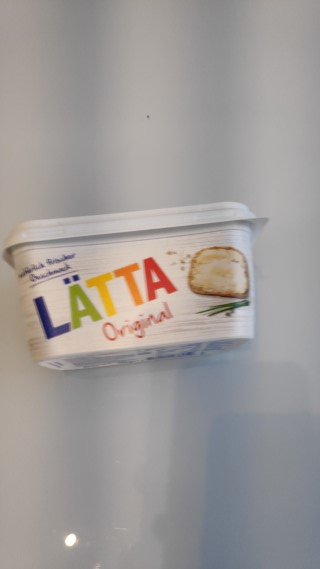laetta: (1, 200, 273, 372)
